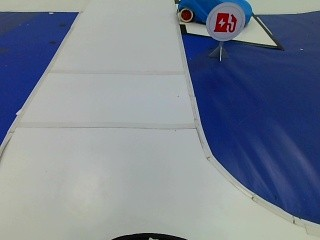battery: (204, 1, 244, 40)
car: (173, 0, 250, 24)
